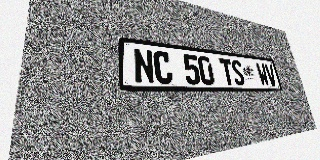0: (197, 56, 215, 85)
5: (182, 54, 201, 85)
C: (153, 50, 174, 84)
N: (133, 48, 155, 84)
S: (230, 60, 246, 86)
T: (219, 58, 235, 85)
V: (264, 64, 278, 86)
W: (255, 63, 270, 86)
